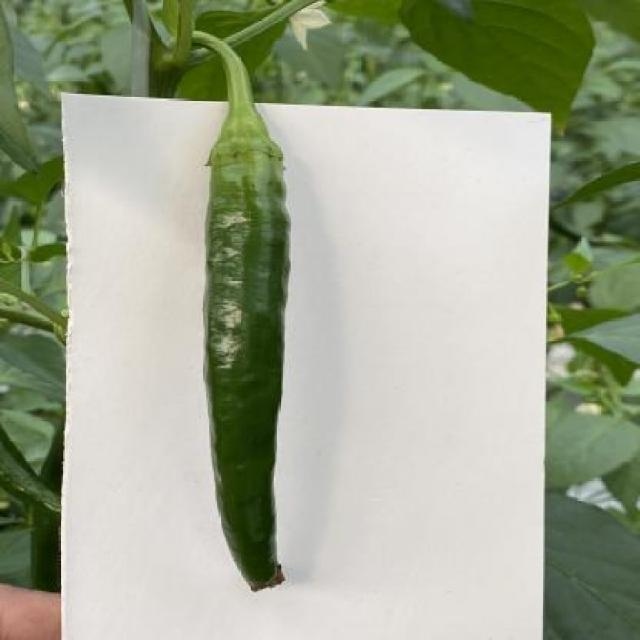green chilli: (203, 152, 291, 586)
